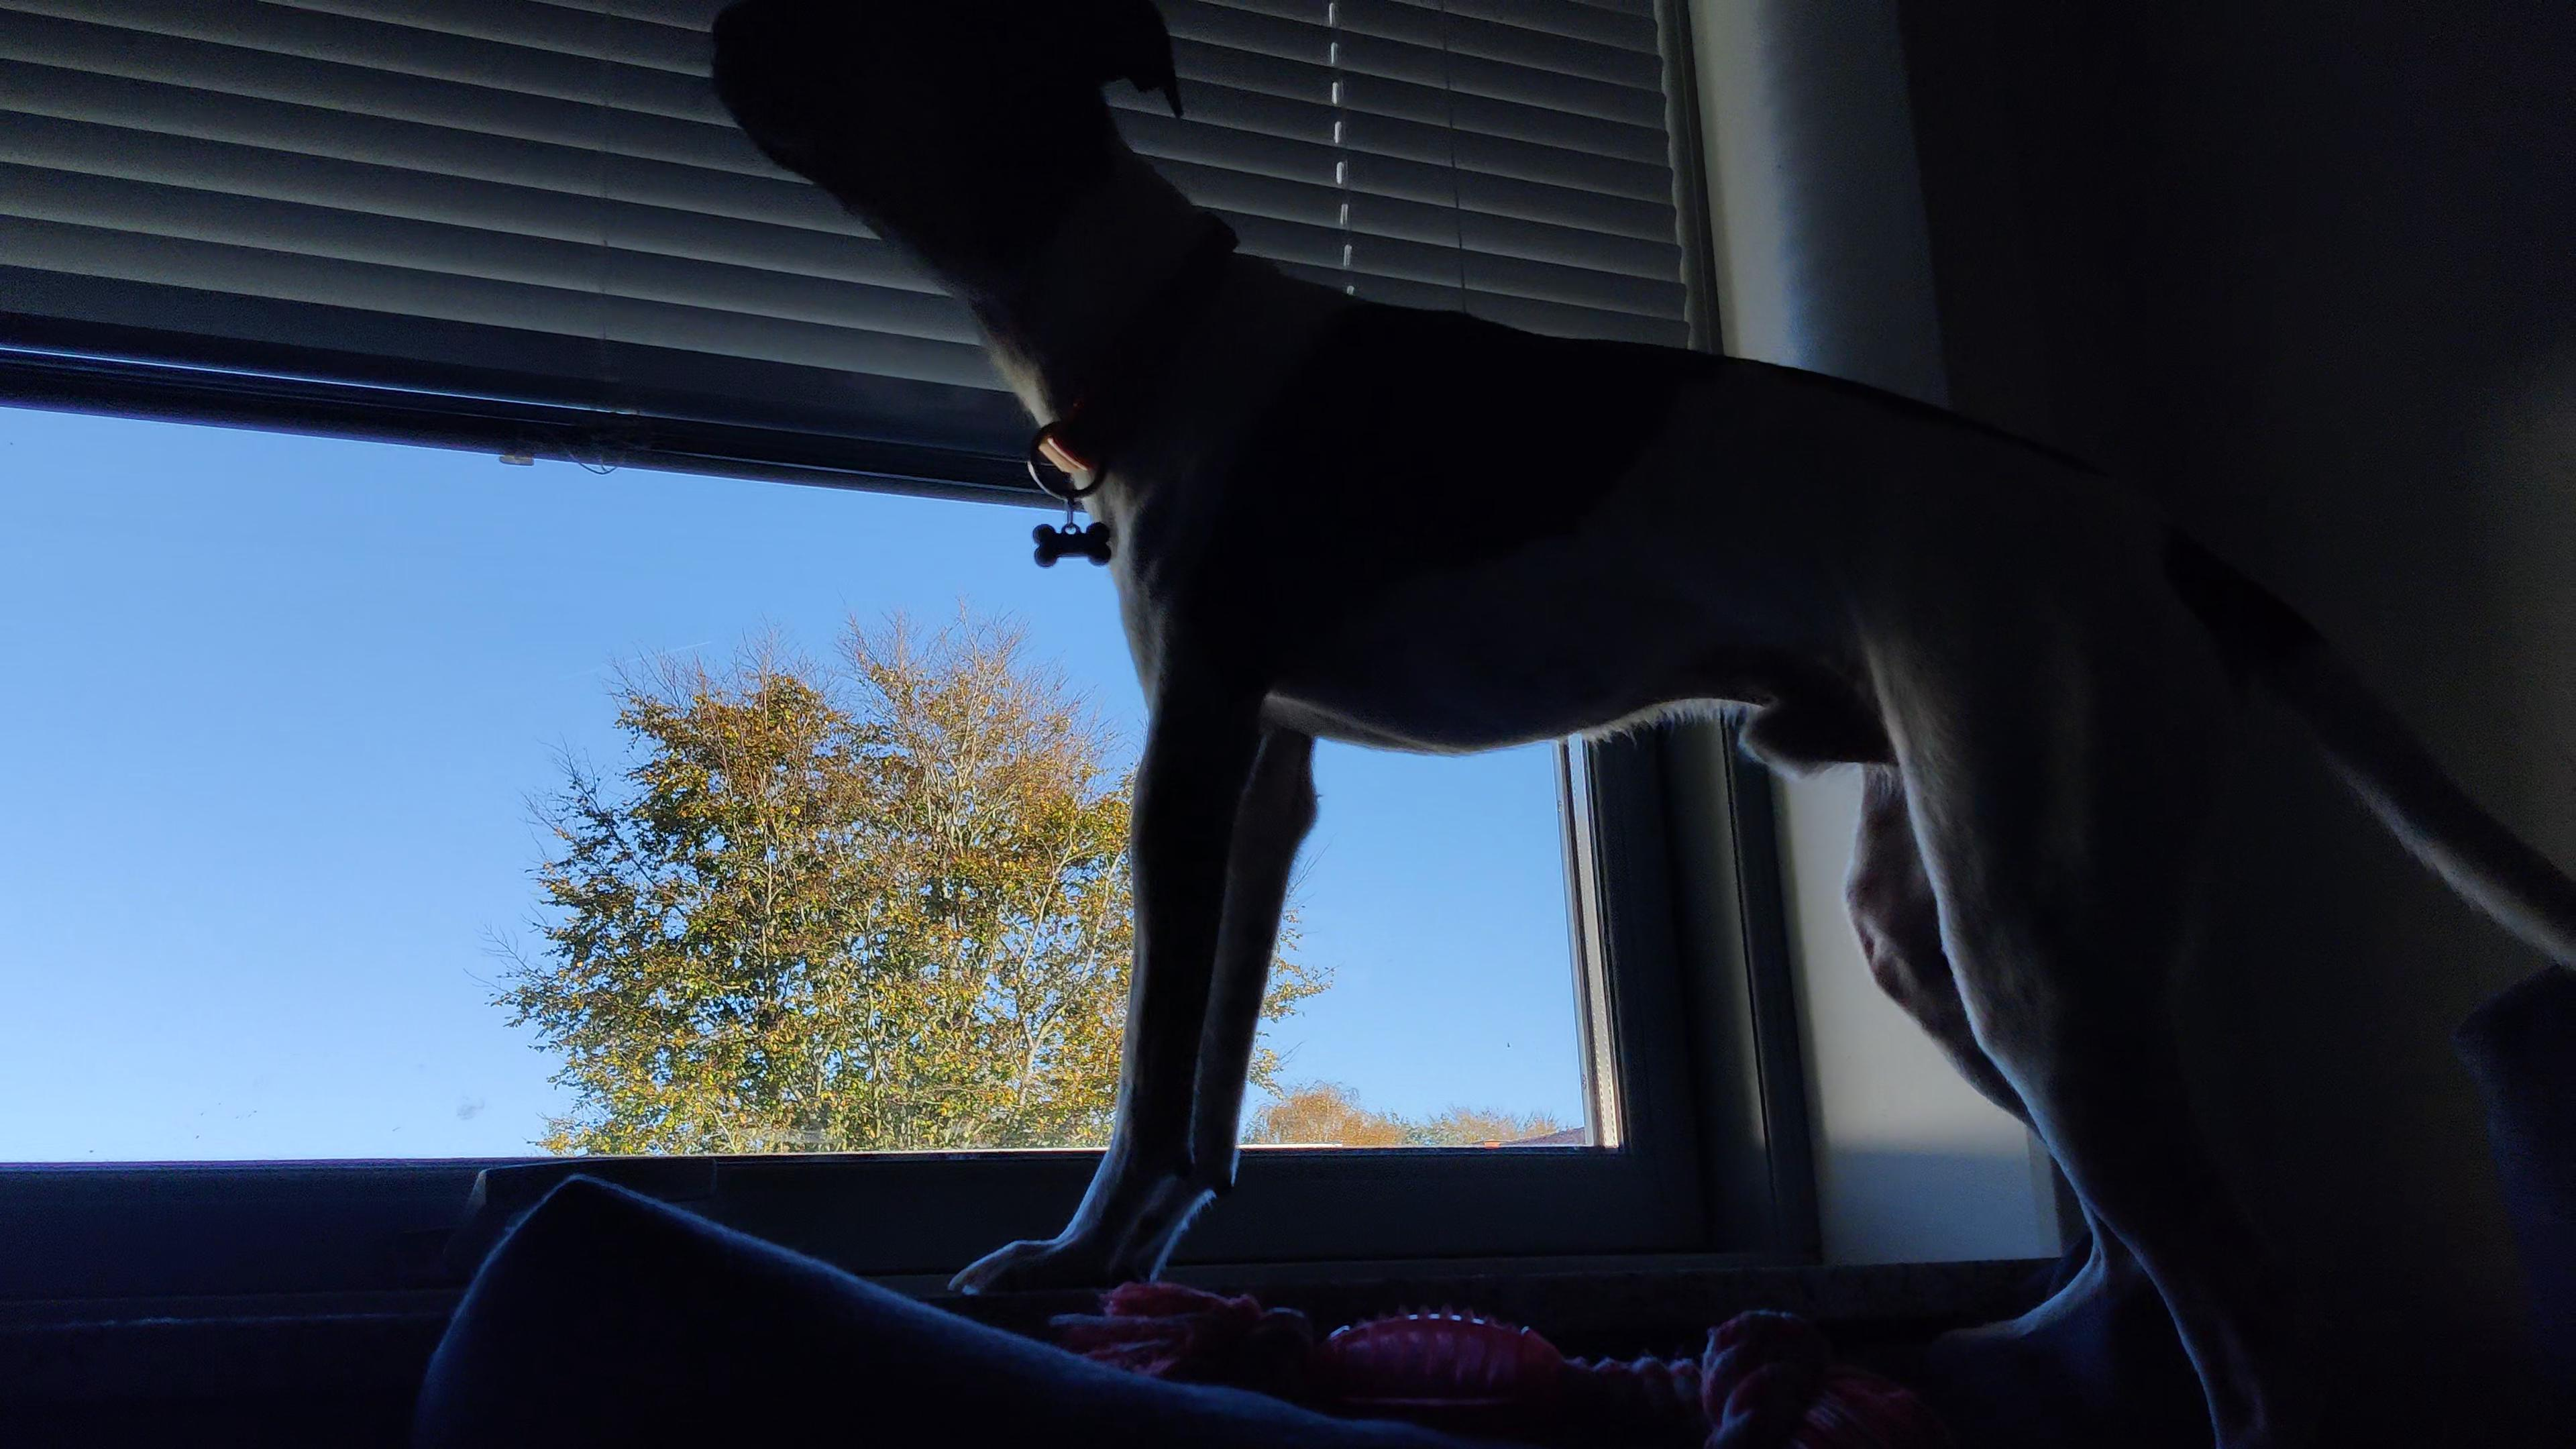Dog: (706, 0, 2576, 1449)
